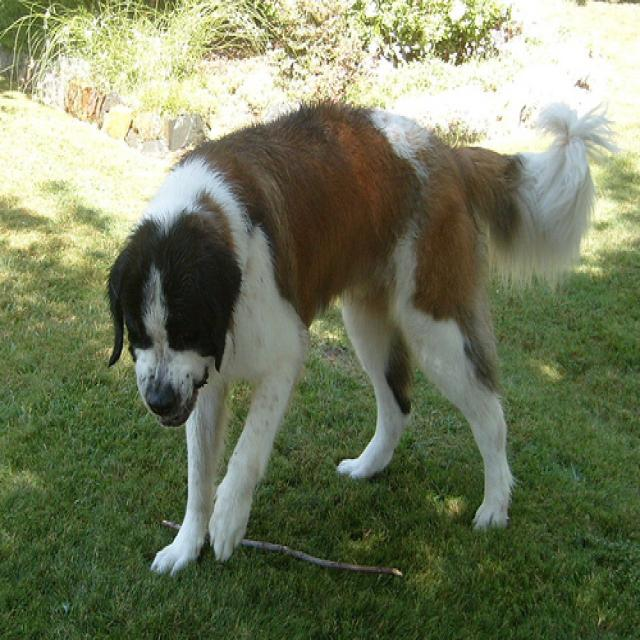dog-saint_bernard: (102, 96, 612, 572)
